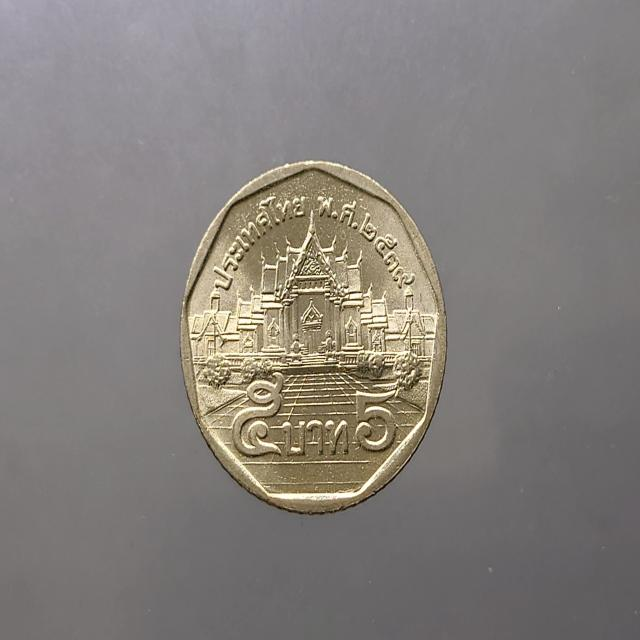5 Bath: (177, 156, 451, 520)
